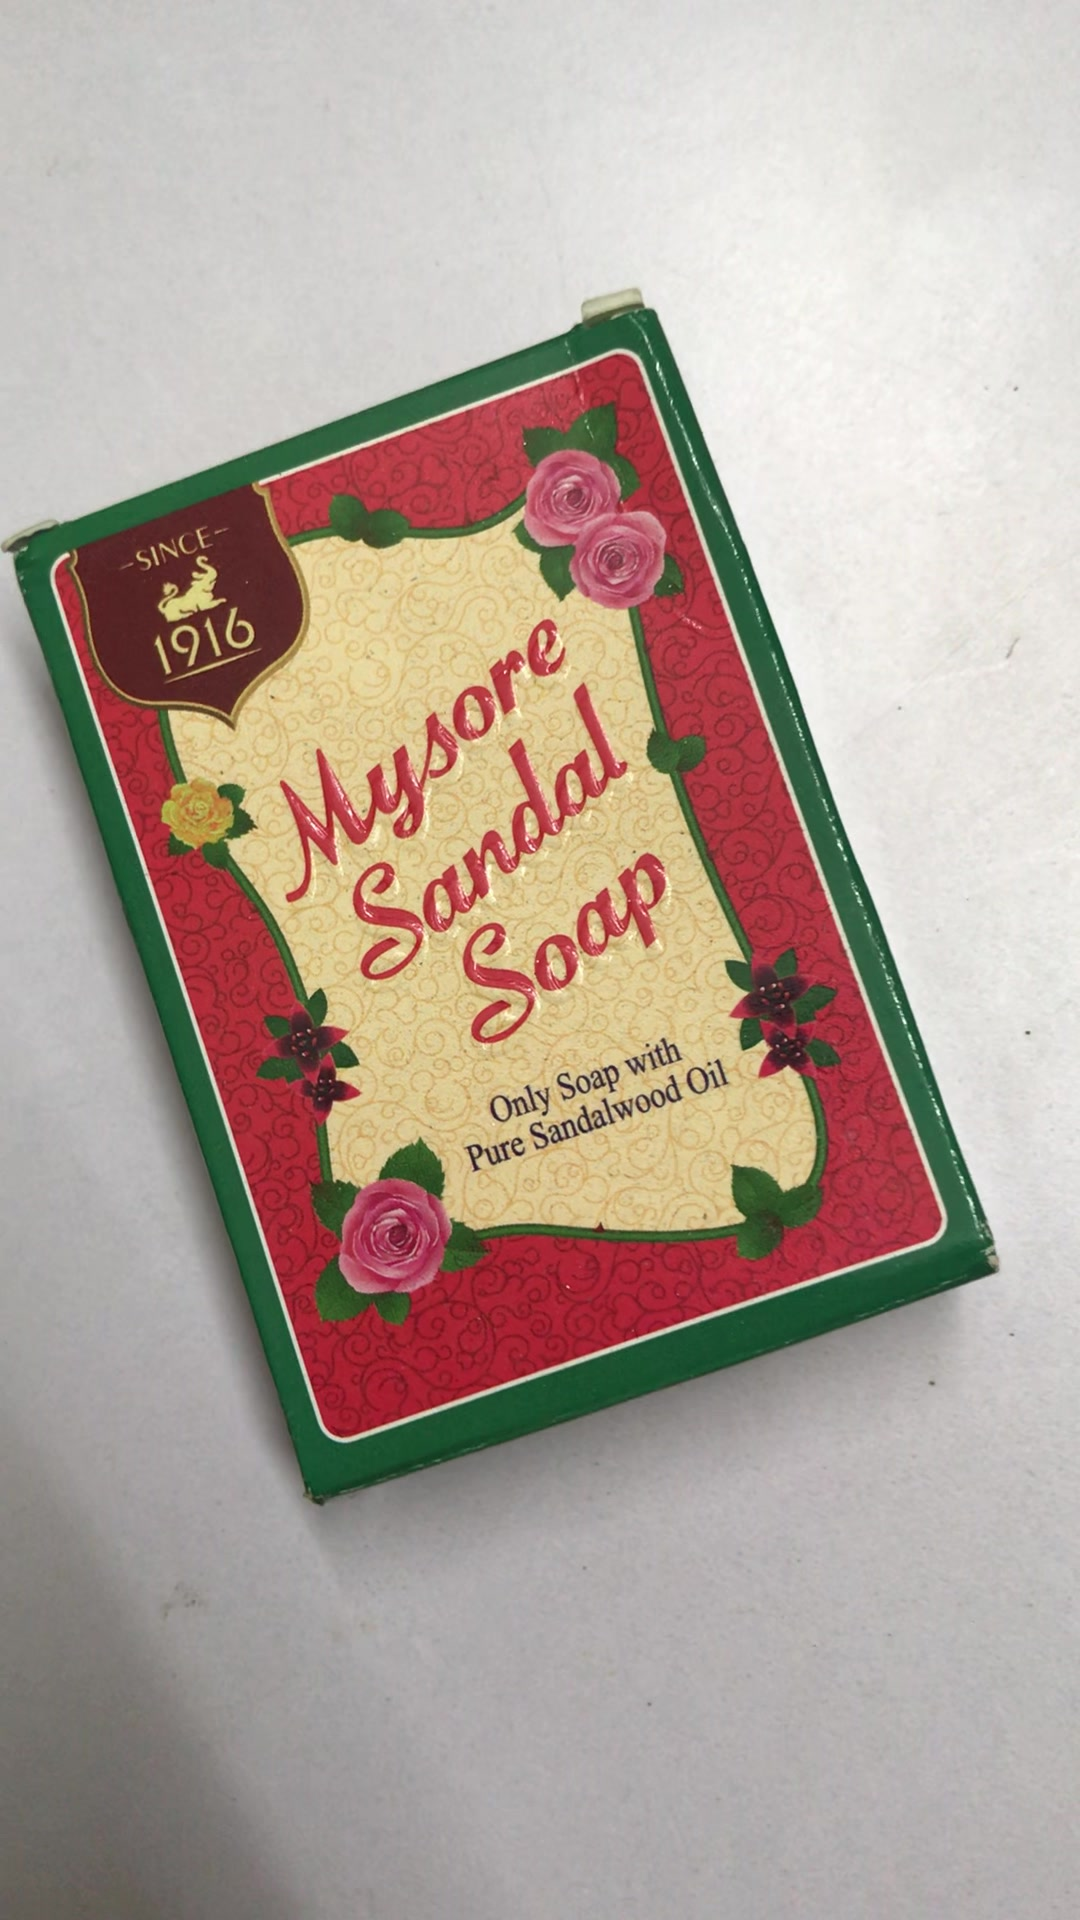mysore sandal soap: (3, 305, 1005, 1506)
